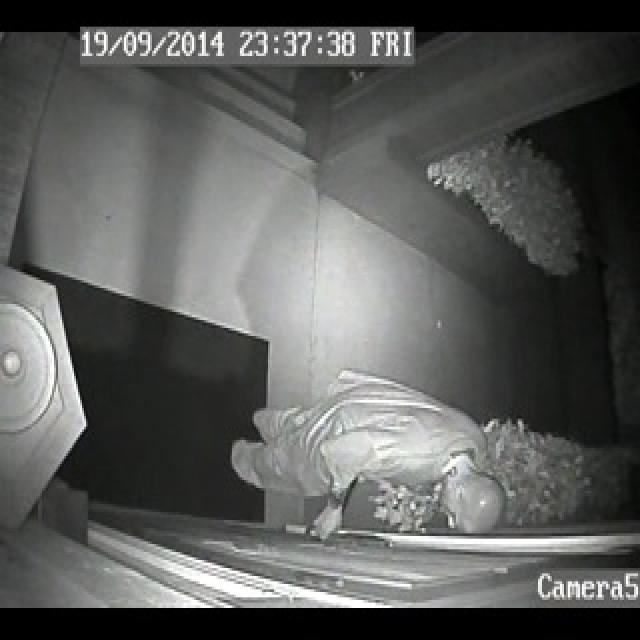thief: (224, 366, 514, 535)
